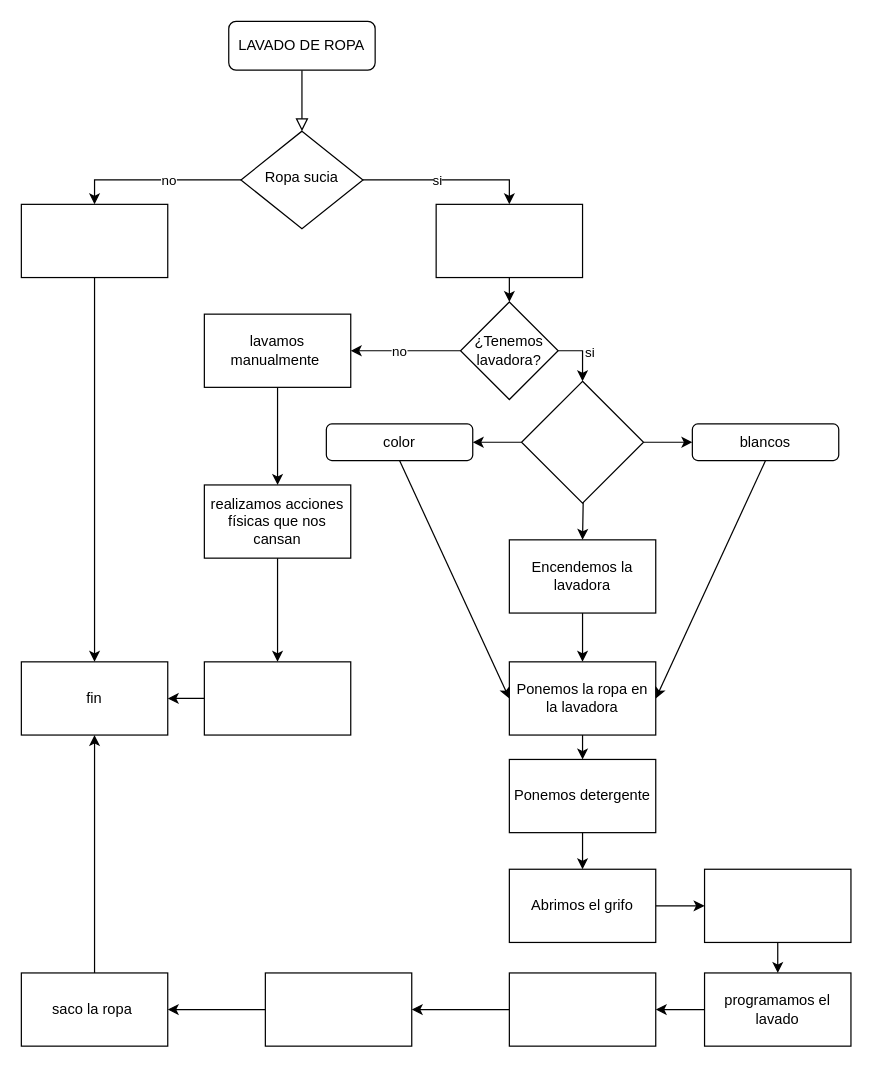
Image size: 872x1068. Some labels were removed from this diagram. The box of each missing label's shape, as (x1, y1, x2, y2) in pixels:
apago la lavadora: (264, 972, 412, 1046)
completamos el proceso: (203, 661, 351, 735)
Dividimos la ropa en secciones: (520, 380, 644, 503)
esperamos el tiempo necesario hasta que termine el proceso: (508, 972, 656, 1046)
no hay ropa para lavar: (20, 203, 168, 278)
Presionamos el botón de encendido: (703, 868, 851, 942)
Usamos una lavadora: (435, 203, 583, 278)
